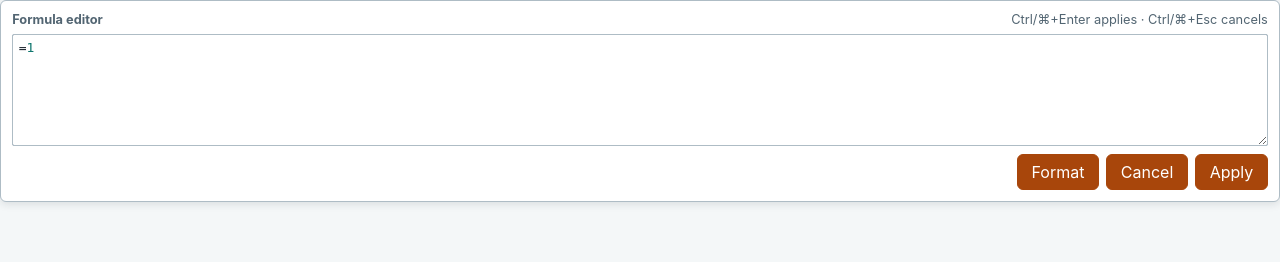
Test: FormulaEditorPanel › heavy Escape with completion open handles plain modifier
This screenshot has width=1280, height=262.
Replace the text in the text box named "Test formula" with "=SU" at {"x": 640, "y": 90}, box [12,34,1268,146]
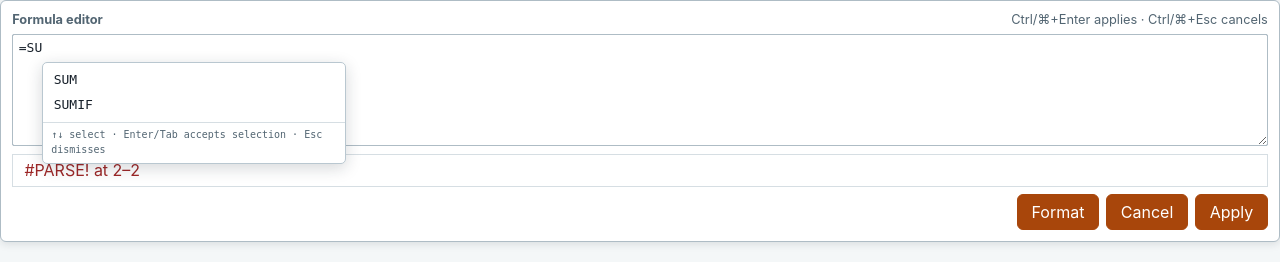
Result: the list is shown at [54,72,93,112]
Press Escape in the text box named "Test formula", box [12,34,1268,146]
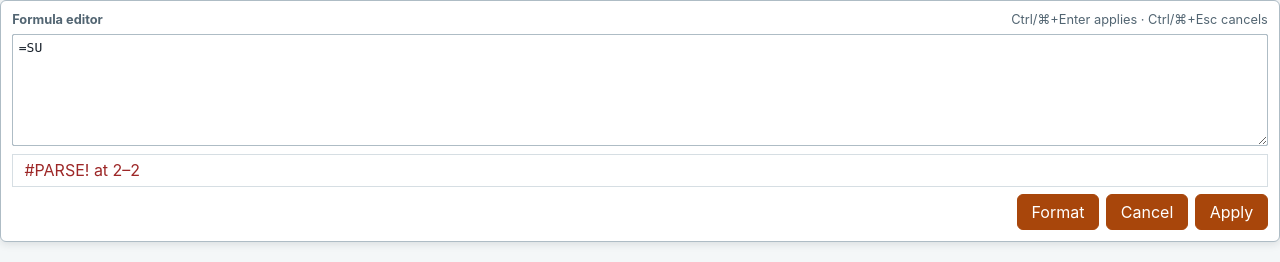
Result: the list is gone
